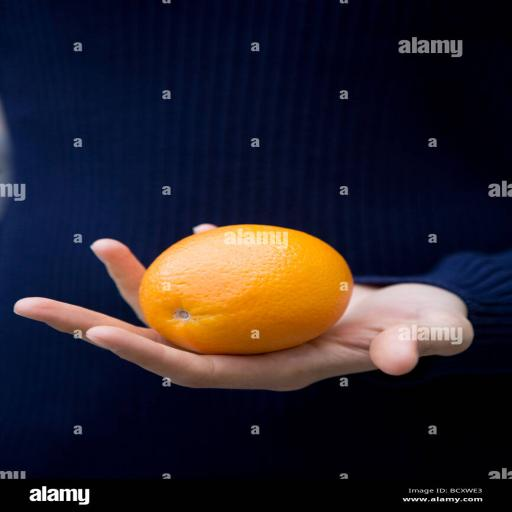orange: (140, 225, 352, 354)
